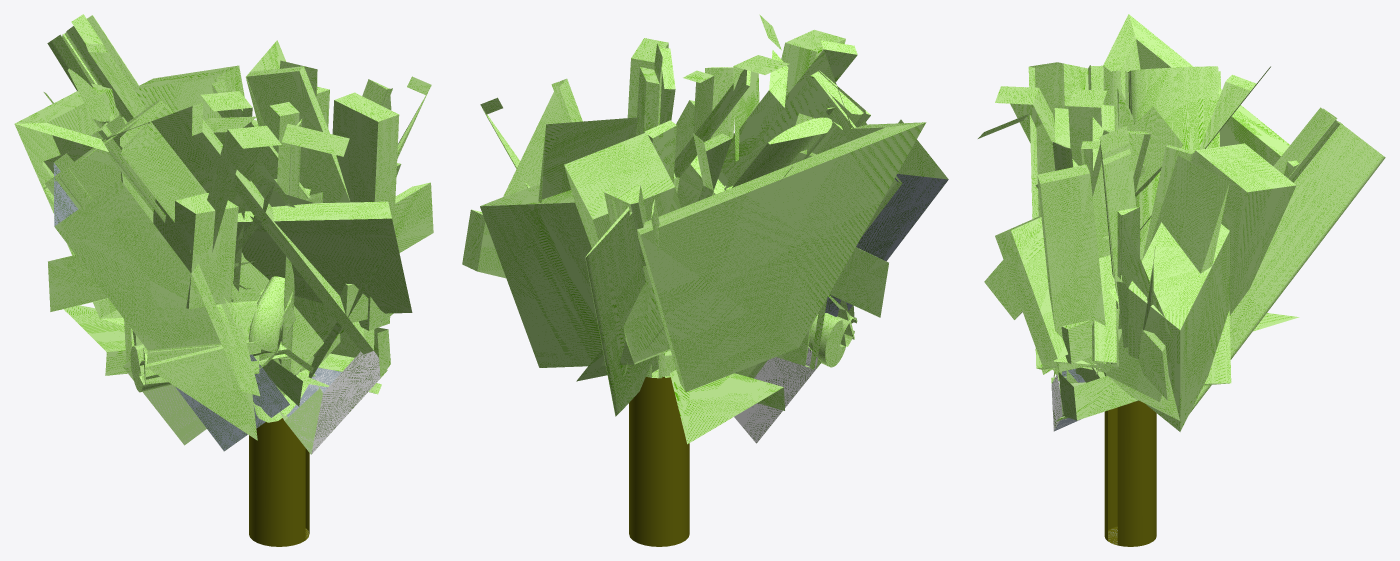
File: modernTree.fbx
3 renders of one model, left to right at view 1: azimuth 30°, elevation 25°; view 2: azimuth 150°, elevation 25°; view 3: azimuth 270°, elevation 25°, orthographic. The views are drawn at different scales.
Parts seen in each view (by area): view 1: Model; view 2: Model; view 3: Model.
Part boxes in pixels (<box>): Model: <box>14,14,433,546</box>; Model: <box>462,14,948,546</box>; Model: <box>978,14,1385,546</box>.
Bounding box in the file's own units: 84.17 × 89.57 × 78.2.
